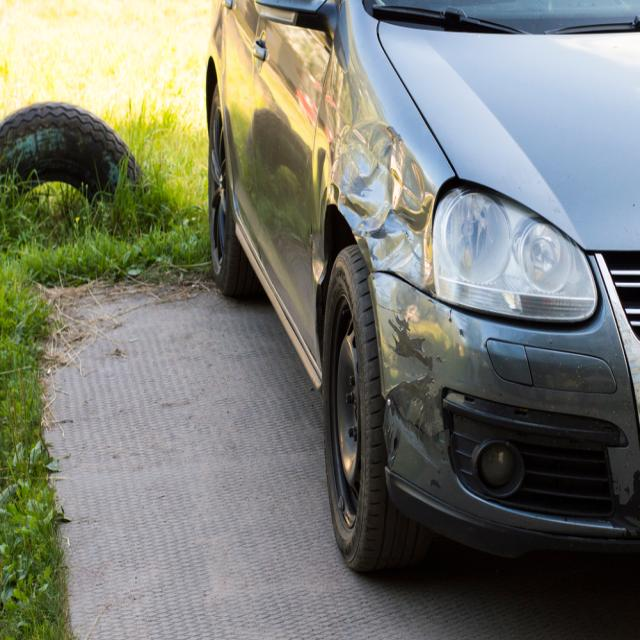dent: (334, 119, 431, 283)
scratch: (381, 311, 450, 490)
